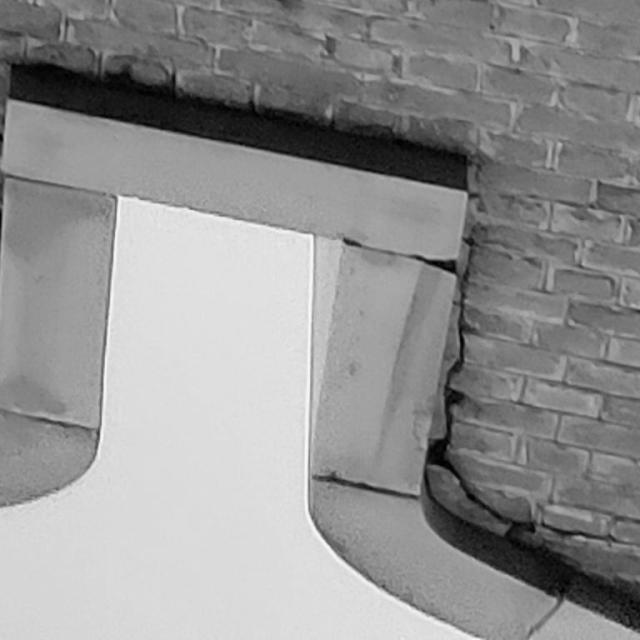crack: (423, 227, 534, 553)
